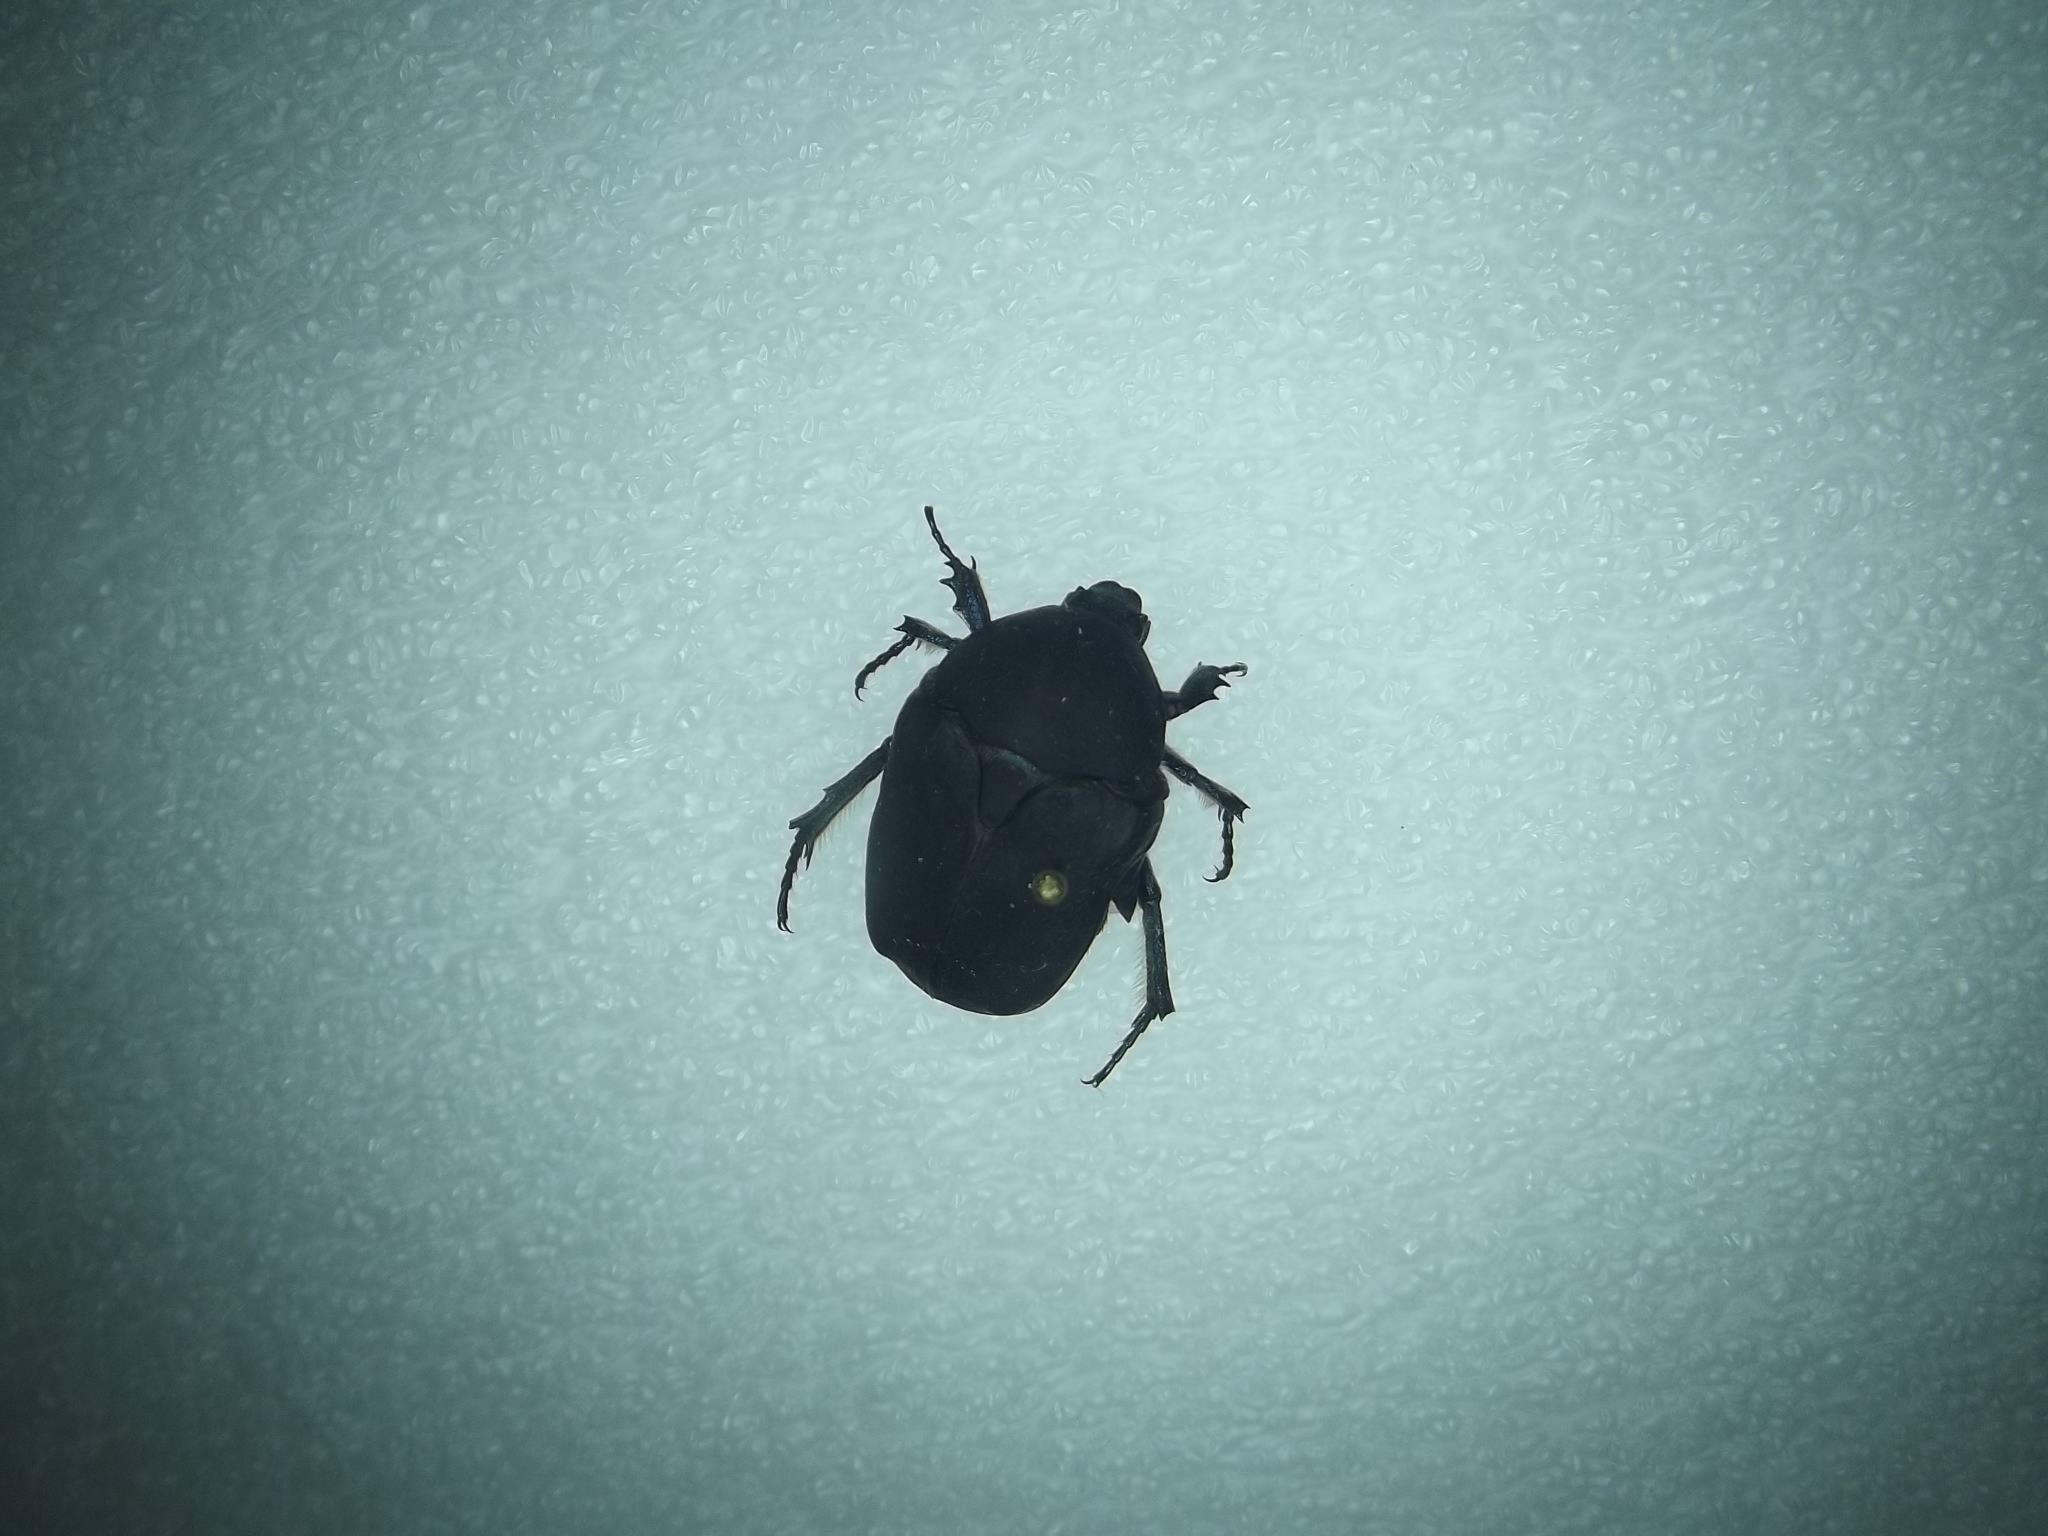Protaetia_ungarica_americana: (755, 473, 1288, 1107)
